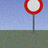sign: (24, 0, 43, 38)
